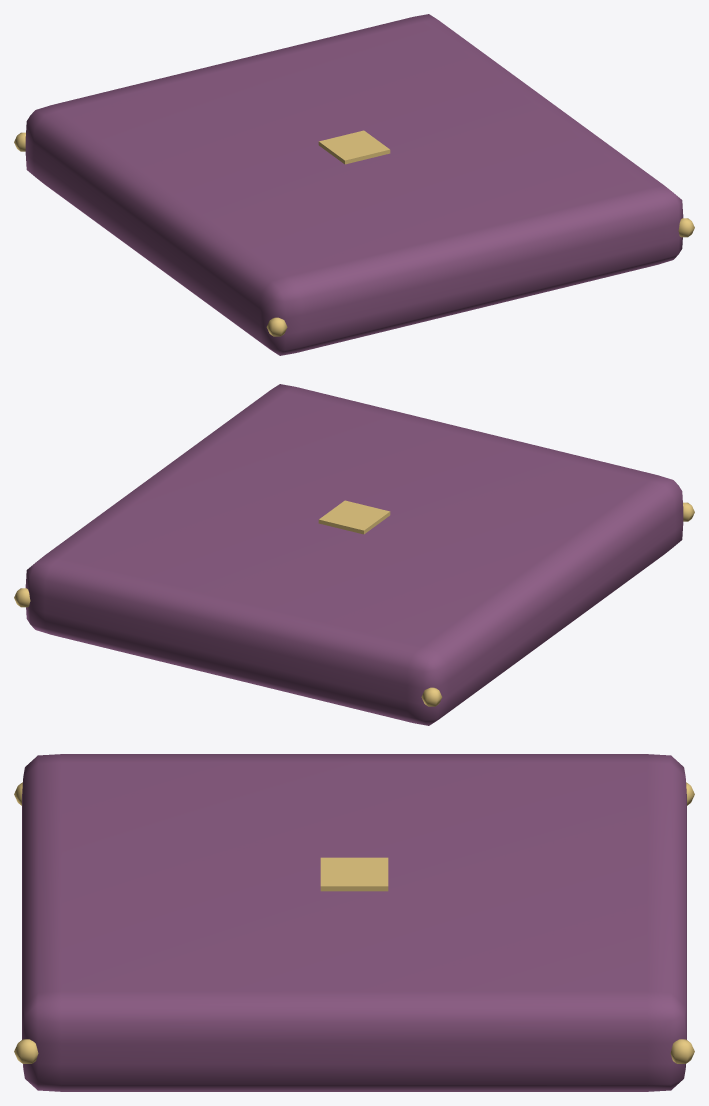
File: Zabuton_Purple.gltf
3 views of the same model, one above another, from view 1: azimuth 30°, elevation 25°; view 2: azimuth 150°, elevation 25°; view 3: azimuth 270°, elevation 25° (orthographic). The views are drawn at different scales.
Parts seen in each view (by area): view 1: A_Zabuton_Purple; view 2: A_Zabuton_Purple; view 3: A_Zabuton_Purple.
Boxes of the visible parts, bbox=[...] form: A_Zabuton_Purple: bbox=[14, 14, 694, 355]; A_Zabuton_Purple: bbox=[14, 384, 694, 725]; A_Zabuton_Purple: bbox=[14, 754, 694, 1091].
Size of the model in its own units: 0.5608 by 0.095 by 0.604.
